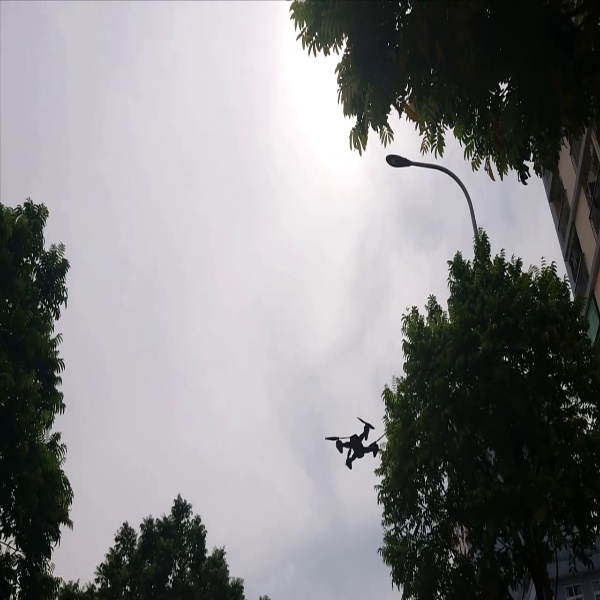drone: (323, 411, 383, 476)
